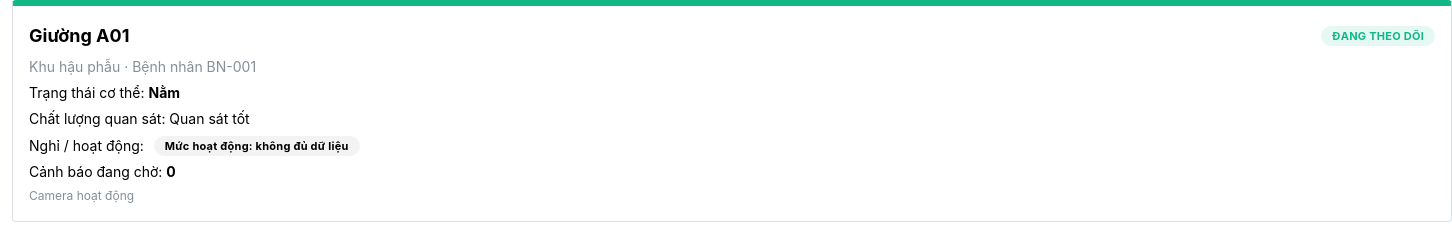
Test case: BedCard › clicking a bed card navigates to live view
The image size is (1452, 239).
Click the button "Giường A01" at (732, 209), box x1=12 y1=0 x2=1451 y2=222
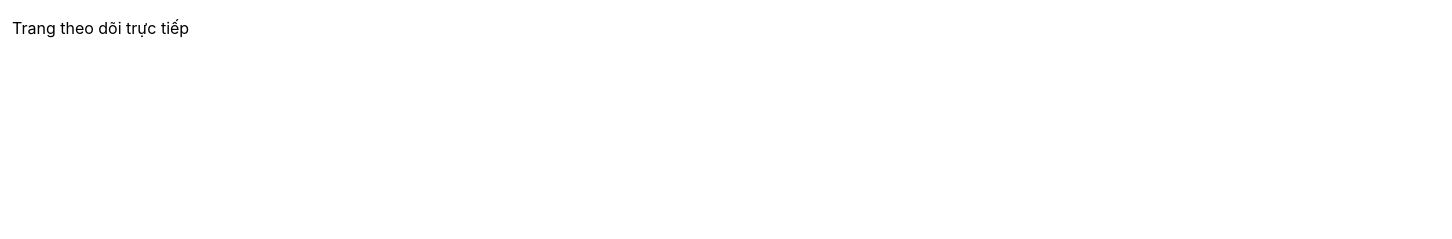
Check: the text "Trang theo dõi trực tiếp" is shown, box x1=12 y1=18 x2=189 y2=38
